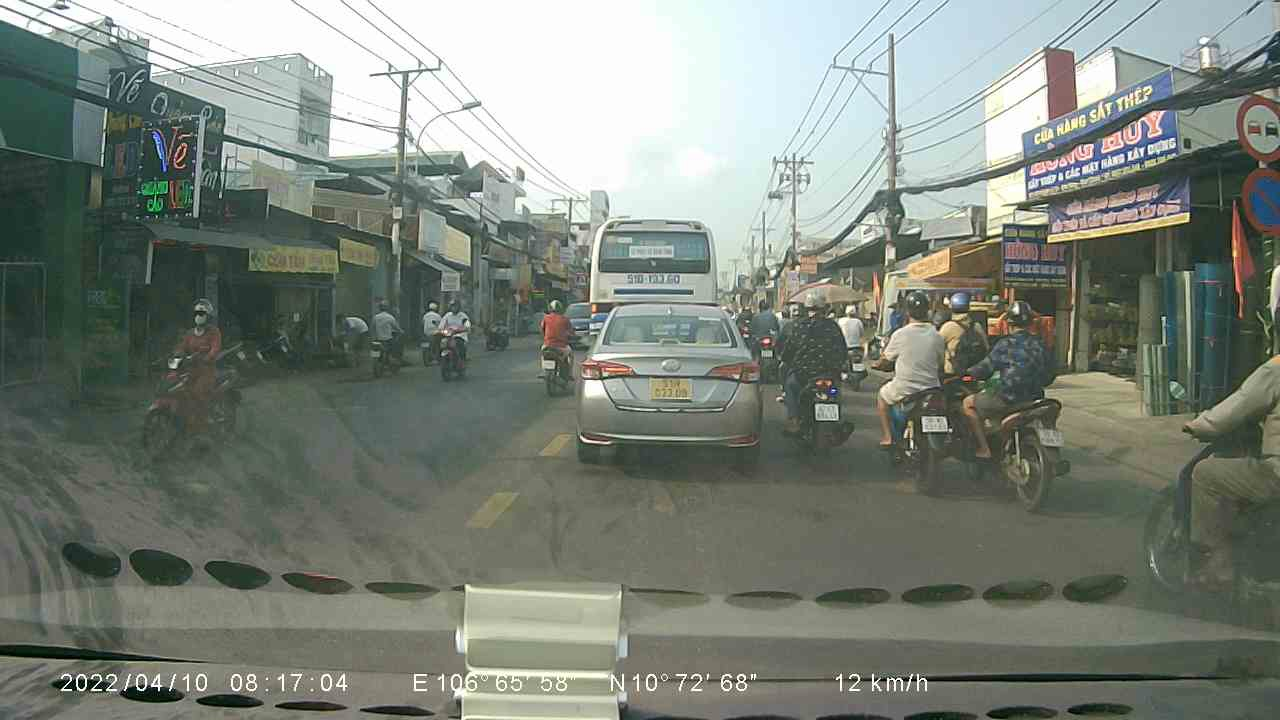Bien khac: (1235, 85, 1280, 164)
Cam do xe: (1235, 168, 1280, 241)
